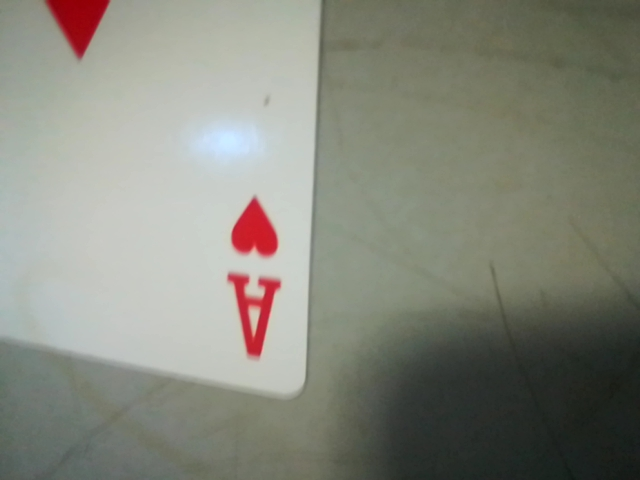hx a: (206, 182, 297, 379)
